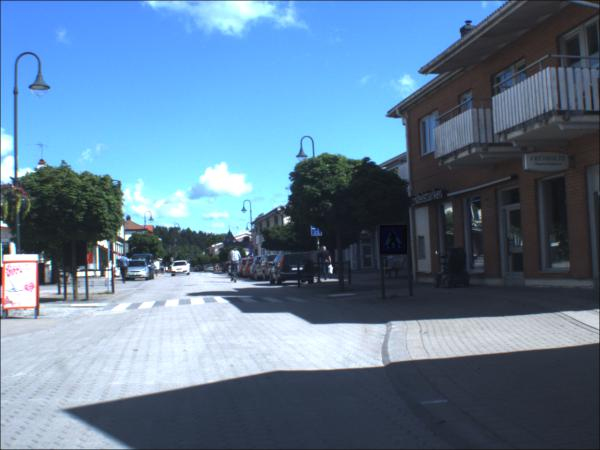NO_PARKING: (249, 243, 256, 251)
PEDESTRIAN_CROSSING: (381, 226, 409, 256)
